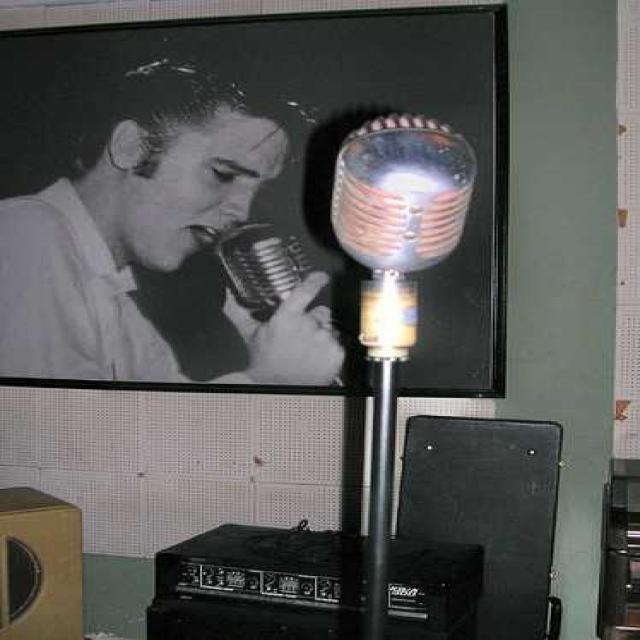microphone: (329, 119, 474, 352), (197, 221, 316, 317)
